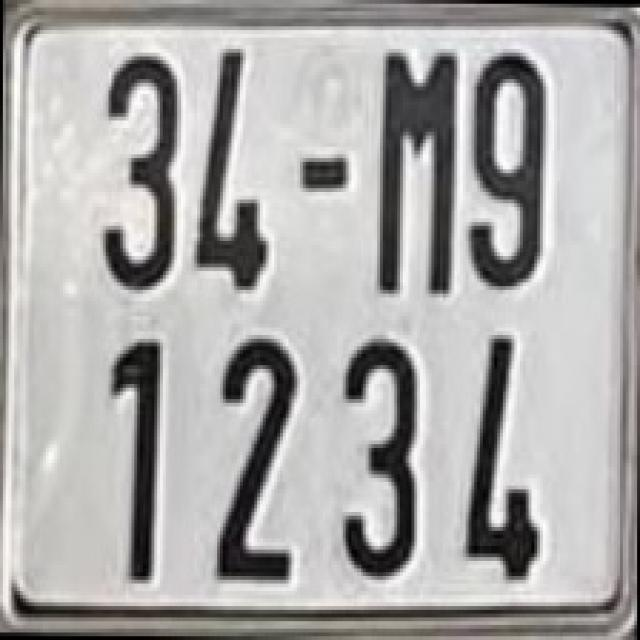1: (102, 332, 174, 588)
2: (208, 328, 300, 588)
3: (337, 335, 423, 580), (100, 49, 183, 294)
4: (460, 332, 546, 584), (192, 45, 274, 294)
9: (468, 49, 548, 290)
M: (374, 39, 460, 288)
